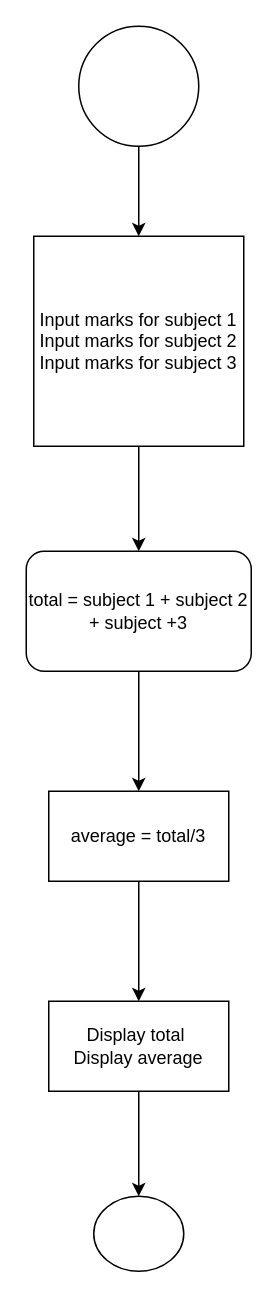
The diagram is 278 pixels wide and 1298 high, and some of its shapes have lost their labels. Here are the shapes that lost their labels. From the top down, the centre of each, then its label:
point (138, 85): Start
point (138, 1233): End
